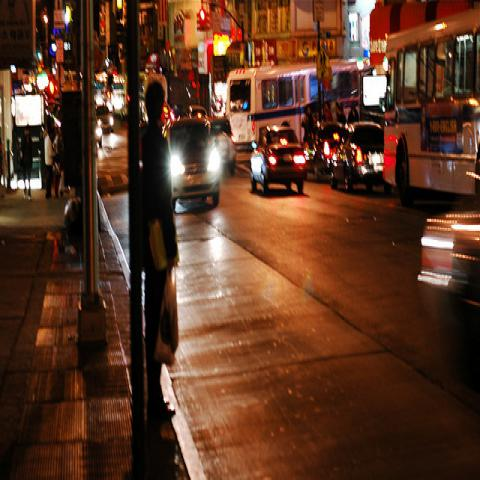bus: (382, 8, 480, 205), (225, 59, 320, 151)
car: (416, 204, 480, 328), (163, 118, 223, 212), (330, 122, 393, 194), (249, 124, 308, 194), (208, 115, 237, 176), (96, 104, 114, 132), (95, 118, 102, 146)
